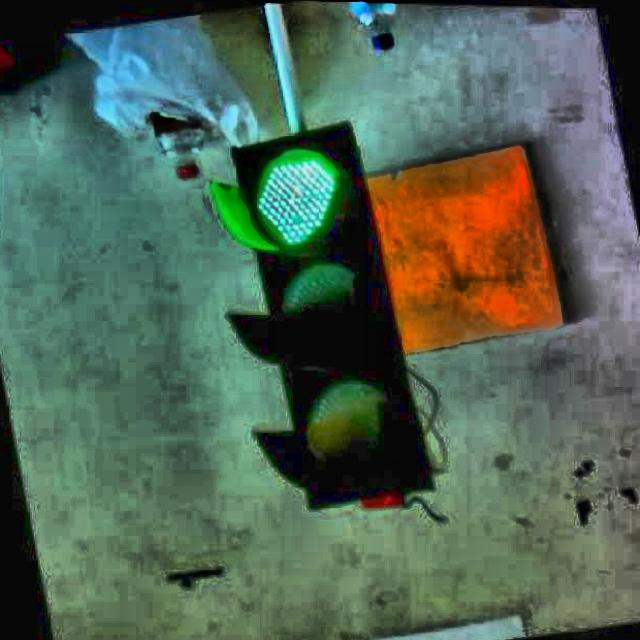green: (193, 114, 425, 516)
